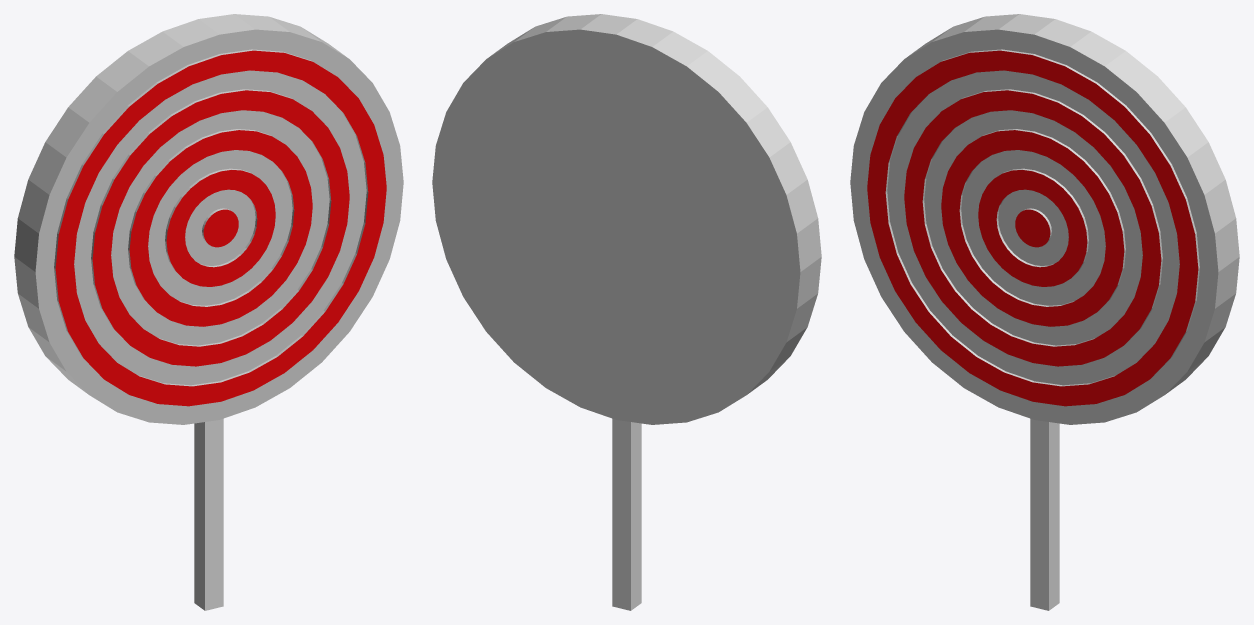
File: target.fbx
The picture shows the model from 3 angles, left to right: view 1: azimuth 30°, elevation 25°; view 2: azimuth 150°, elevation 25°; view 3: azimuth 330°, elevation 25°; orthographic projection.
Visible parts, largest first — view 1: Target, Target Fixture Rod; view 2: Target, Target Fixture Rod; view 3: Target, Target Fixture Rod.
Part boxes in pixels (x1,y1,x2,y2): Target: [14, 14, 403, 424]; Target Fixture Rod: [194, 418, 223, 610]; Target: [432, 14, 821, 424]; Target Fixture Rod: [612, 418, 641, 610]; Target: [850, 14, 1239, 424]; Target Fixture Rod: [1030, 418, 1059, 610].
Size of the model in its own units: 200 by 300 by 21.5.
